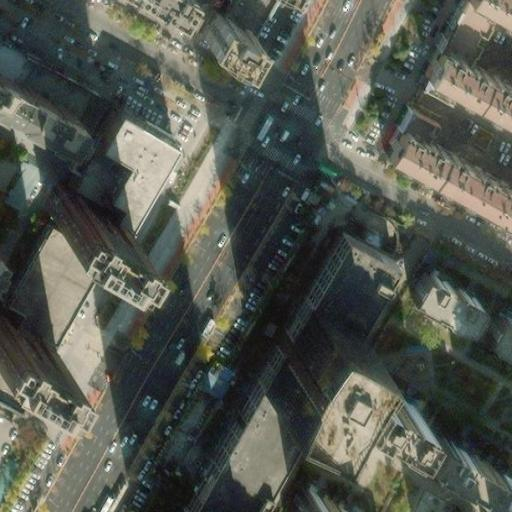building: (173, 229, 385, 512), (1, 218, 106, 350), (380, 119, 512, 222), (252, 303, 354, 419), (99, 122, 175, 257), (419, 41, 512, 119), (416, 433, 512, 506), (48, 185, 127, 251), (341, 377, 418, 437), (404, 266, 476, 325), (197, 14, 250, 61), (479, 311, 512, 354), (396, 103, 433, 135), (286, 491, 334, 512), (471, 0, 512, 23)
